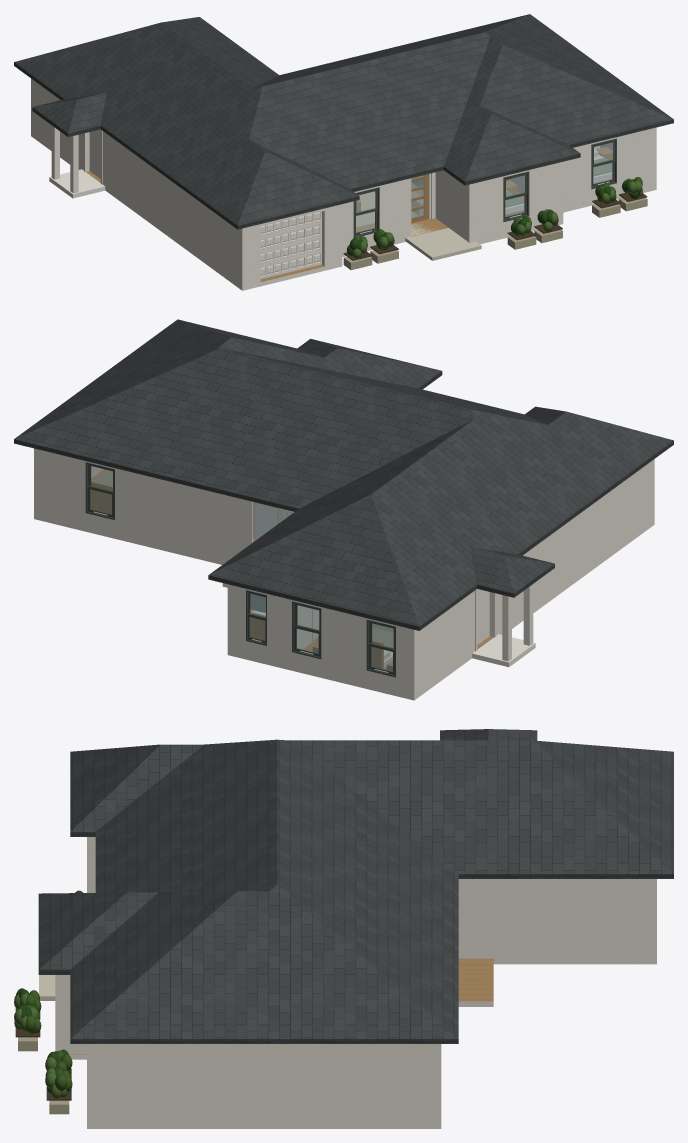
File: utah-propuesta-v2.glb
3 renders of one model, top to bottom at view 1: azimuth 30°, elevation 25°; view 2: azimuth 150°, elevation 25°; view 3: azimuth 270°, elevation 25°, orthographic. The views are drawn at different scales.
Visible parts, largest first — view 1: 165 Componente#83, 075 Componente#3, 085 Componente#13, 083 Componente#11, 001 Group, 073 Componente#1, 079 Componente#7, 082 Componente#10, Acceso piedra, 077 Componente#5, 076 Componente#4, 135 Componente#62 (+4 smaller); view 2: 165 Componente#83, 086 Componente#14, 075 Componente#3, 074 Componente#2, 073 Componente#1, 135 Componente#62, 166 Componente#84, 167 Componente#85, 178 Group, Cabecero roble; view 3: 165 Componente#83, 088 Componente#16, 087 Componente#15, 073 Componente#1, 084 Componente#12, 074 Componente#2, 085 Componente#13, 086 Componente#14, 083 Componente#11.
Boxes of the visible parts, box(x1,y1,x2,y2) form: 165 Componente#83: box(14, 14, 673, 229); 075 Componente#3: box(34, 81, 247, 286); 085 Componente#13: box(563, 127, 656, 208); 083 Componente#11: box(474, 162, 563, 241); 001 Group: box(260, 210, 324, 282); 073 Componente#1: box(31, 132, 656, 290); 079 Componente#7: box(342, 178, 411, 252); 082 Componente#10: box(435, 170, 474, 242); Acceso piedra: box(405, 222, 481, 260); 077 Componente#5: box(325, 204, 342, 266); 076 Componente#4: box(247, 208, 324, 285); 135 Componente#62: box(89, 129, 100, 178); 165 Componente#83: box(14, 319, 673, 630); 086 Componente#14: box(34, 448, 252, 561); 075 Componente#3: box(417, 459, 654, 692); 074 Componente#2: box(227, 584, 417, 695); 073 Componente#1: box(34, 469, 654, 700); 135 Componente#62: box(477, 589, 489, 644); 166 Componente#84: box(502, 595, 511, 661); 167 Componente#85: box(523, 584, 533, 645); 178 Group: box(255, 504, 279, 540); Cabecero roble: box(90, 480, 112, 513); 165 Componente#83: box(38, 729, 673, 1043); 088 Componente#16: box(95, 1044, 432, 1123); 087 Componente#15: box(458, 879, 648, 958); 073 Componente#1: box(69, 958, 656, 1128); 084 Componente#12: box(63, 975, 86, 1053); 074 Componente#2: box(648, 879, 656, 958); 085 Componente#13: box(87, 1044, 95, 1123); 086 Componente#14: box(433, 1044, 441, 1123); 083 Componente#11: box(55, 975, 63, 1051).
Bounding box in the file's own units: 17.58 × 4.7 × 15.88.
54 materials, 24 textured.
